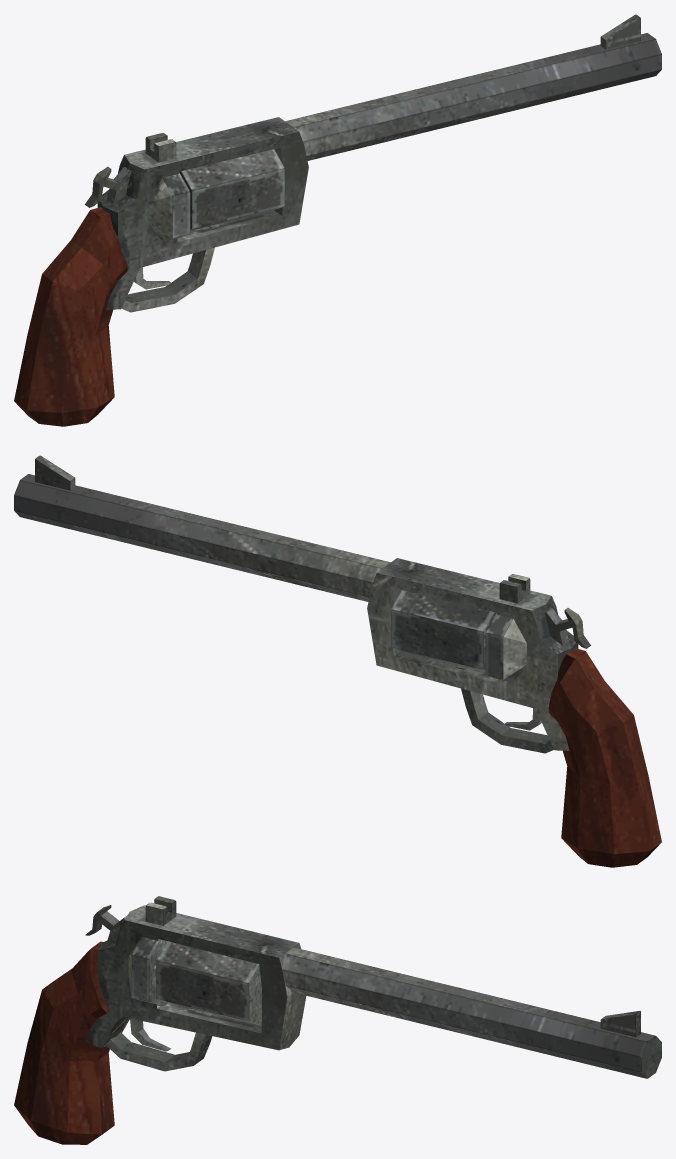
The model's file is Revolver.fbx.
3 views of the same model, one above another, from view 1: azimuth 30°, elevation 25°; view 2: azimuth 150°, elevation 25°; view 3: azimuth 330°, elevation 25° (orthographic).
Visible parts, largest first — view 1: dulo, wood, main, barrel, barrel 1, trigger protect, trigger 2, aim, aim2; view 2: dulo, wood, main, barrel, barrel 1, trigger protect, trigger 2, aim, aim2; view 3: dulo, main, wood, barrel, trigger protect, barrel 1, aim, aim2, trigger 2, trigger.
Boxes of the visible parts, left/top/right/bottom form: dulo: left=285, top=33, right=661, bottom=160; wood: left=14, top=207, right=128, bottom=426; main: left=97, top=117, right=308, bottom=309; barrel: left=179, top=149, right=284, bottom=230; barrel 1: left=149, top=172, right=190, bottom=241; trigger protect: left=121, top=224, right=219, bottom=312; trigger 2: left=85, top=166, right=131, bottom=207; aim: left=600, top=14, right=640, bottom=49; aim2: left=145, top=133, right=176, bottom=162; dulo: left=14, top=474, right=390, bottom=601; wood: left=548, top=648, right=661, bottom=867; main: left=367, top=558, right=578, bottom=750; barrel: left=391, top=590, right=496, bottom=671; barrel 1: left=485, top=613, right=526, bottom=682; trigger protect: left=456, top=665, right=553, bottom=753; trigger 2: left=544, top=607, right=590, bottom=648; aim: left=35, top=455, right=75, bottom=490; aim2: left=499, top=574, right=530, bottom=603; dulo: left=282, top=947, right=661, bottom=1078; main: left=85, top=905, right=306, bottom=1050; wood: left=14, top=941, right=114, bottom=1144; barrel: left=156, top=941, right=261, bottom=1025; trigger protect: left=106, top=1012, right=212, bottom=1071; barrel 1: left=128, top=937, right=167, bottom=1006; aim: left=600, top=1011, right=640, bottom=1037; aim2: left=145, top=896, right=176, bottom=925; trigger 2: left=85, top=905, right=126, bottom=942; trigger: left=130, top=1018, right=170, bottom=1051.
Size of the model in its own units: 893 by 354 by 100.
Materials: 2 (2 with a texture image).
